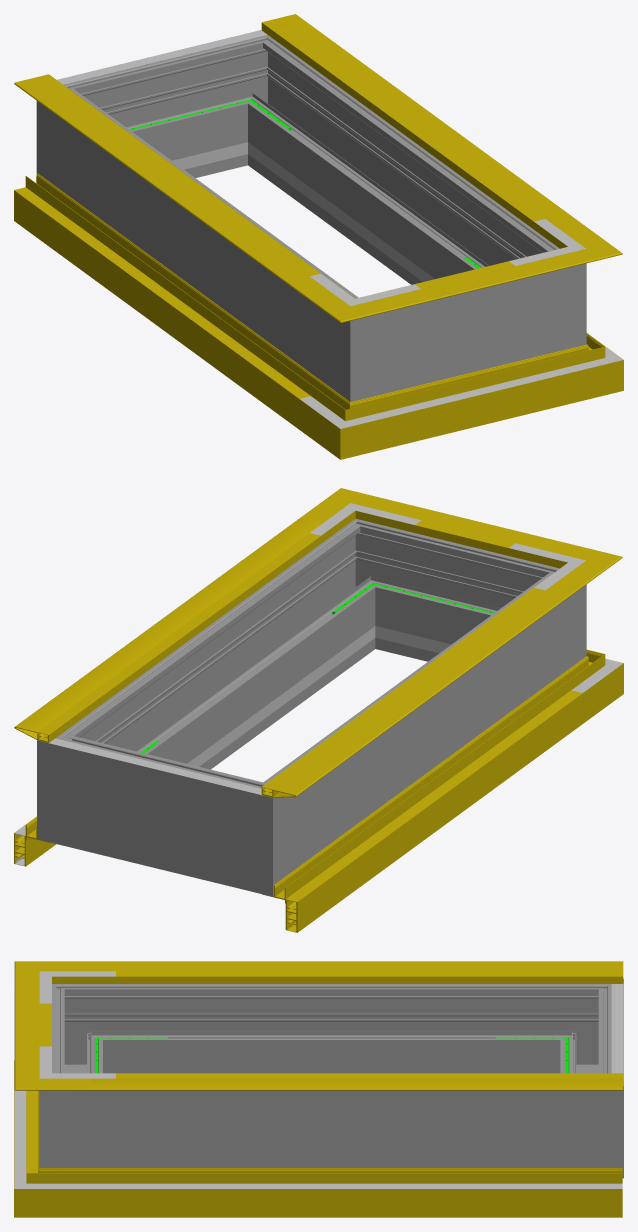
3 views of the same model, one above another, from view 1: azimuth 30°, elevation 25°; view 2: azimuth 150°, elevation 25°; view 3: azimuth 270°, elevation 25° (orthographic). The views are drawn at different scales.
Parts seen in each view (by area): view 1: 3DGeom-297, 3DGeom-268, 3DGeom-85, 3DGeom-276, 3DGeom-145, 3DGeom-270, 3DGeom-298, 3DGeom-147, 3DGeom-90, 3DGeom-284, 3DGeom-290, 3DGeom-86 (+16 smaller); view 2: 3DGeom-297, 3DGeom-268, 3DGeom-85, 3DGeom-278, 3DGeom-276, 3DGeom-298, 3DGeom-145, 3DGeom-284, 3DGeom-147, 3DGeom-290, 3DGeom-270, 3DGeom-105 (+13 smaller); view 3: 3DGeom-268, 3DGeom-297, 3DGeom-97, 3DGeom-147, 3DGeom-145, 3DGeom-284, 3DGeom-290, 3DGeom-278, 3DGeom-270, 3DGeom-92, 3DGeom-98, 3DGeom-152 (+13 smaller).
Boxes of the visible parts, x1,y1,x2,y2 form: 3DGeom-297: [255, 60, 533, 284]; 3DGeom-268: [77, 109, 332, 371]; 3DGeom-85: [14, 173, 322, 429]; 3DGeom-276: [114, 47, 236, 177]; 3DGeom-145: [261, 14, 580, 238]; 3DGeom-270: [309, 279, 421, 401]; 3DGeom-298: [421, 280, 515, 384]; 3DGeom-147: [14, 74, 331, 292]; 3DGeom-90: [398, 356, 552, 442]; 3DGeom-284: [203, 30, 301, 169]; 3DGeom-290: [516, 229, 586, 361]; 3DGeom-86: [299, 382, 411, 459]; 3DGeom-297: [89, 543, 368, 769]; 3DGeom-268: [291, 592, 545, 855]; 3DGeom-85: [262, 676, 582, 932]; 3DGeom-278: [202, 762, 313, 896]; 3DGeom-276: [107, 748, 215, 879]; 3DGeom-298: [387, 533, 508, 661]; 3DGeom-145: [14, 517, 334, 742]; 3DGeom-284: [37, 713, 120, 856]; 3DGeom-147: [261, 578, 581, 797]; 3DGeom-290: [321, 518, 414, 653]; 3DGeom-270: [481, 556, 586, 685]; 3DGeom-105: [286, 690, 582, 904]; 3DGeom-268: [115, 984, 547, 1073]; 3DGeom-297: [115, 1090, 547, 1167]; 3DGeom-97: [90, 1168, 622, 1217]; 3DGeom-147: [91, 961, 623, 983]; 3DGeom-145: [91, 1078, 623, 1090]; 3DGeom-284: [547, 1054, 623, 1178]; 3DGeom-290: [39, 1054, 115, 1167]; 3DGeom-278: [547, 978, 623, 1073]; 3DGeom-270: [52, 984, 115, 1073]; 3DGeom-92: [14, 1146, 90, 1217]; 3DGeom-98: [90, 1183, 622, 1188]; 3DGeom-152: [116, 1073, 623, 1078].
Bounding box in the file's own units: 0.6096 × 0.2829 × 1.22.
